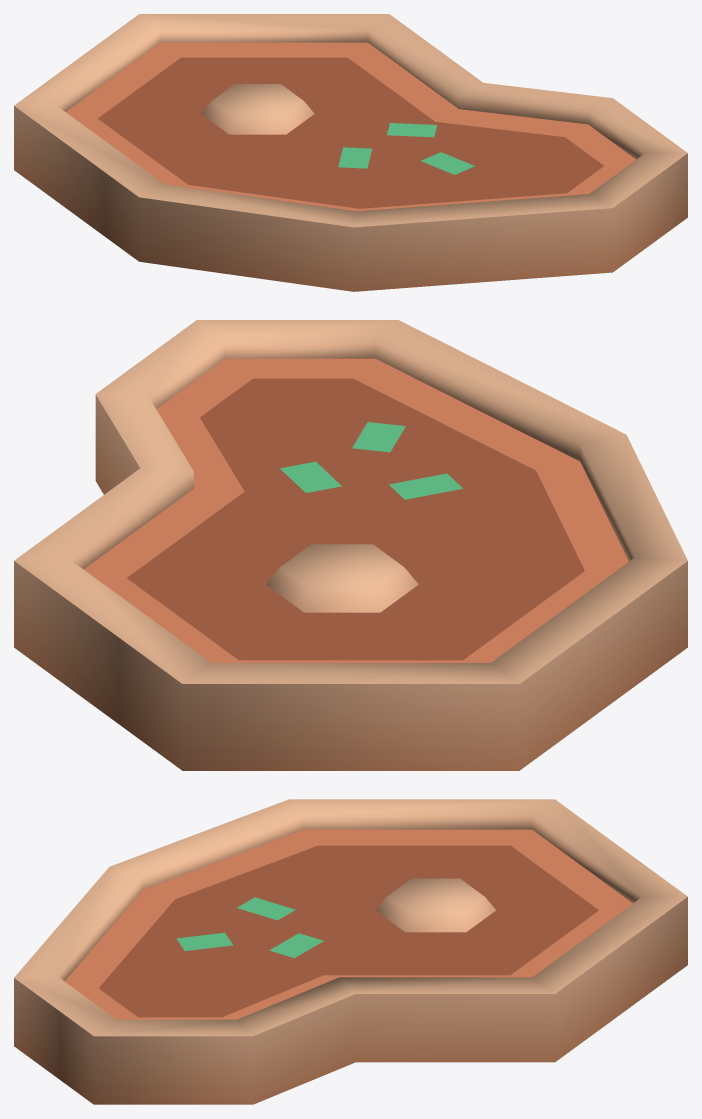
File: food.glb
3 views of the same model, one above another, from view 1: azimuth 30°, elevation 25°; view 2: azimuth 150°, elevation 25°; view 3: azimuth 270°, elevation 25° (orthographic). The views are drawn at different scales.
Parts seen in each view (by area): view 1: meat-cooked; view 2: meat-cooked; view 3: meat-cooked.
Boxes of the visible parts, left/top/right/bottom form: meat-cooked: left=14, top=14, right=687, bottom=291; meat-cooked: left=14, top=320, right=687, bottom=770; meat-cooked: left=14, top=799, right=687, bottom=1104.
Size of the model in its own units: 0.4785 by 0.0645 by 0.5754.
1 material, 1 textured.
